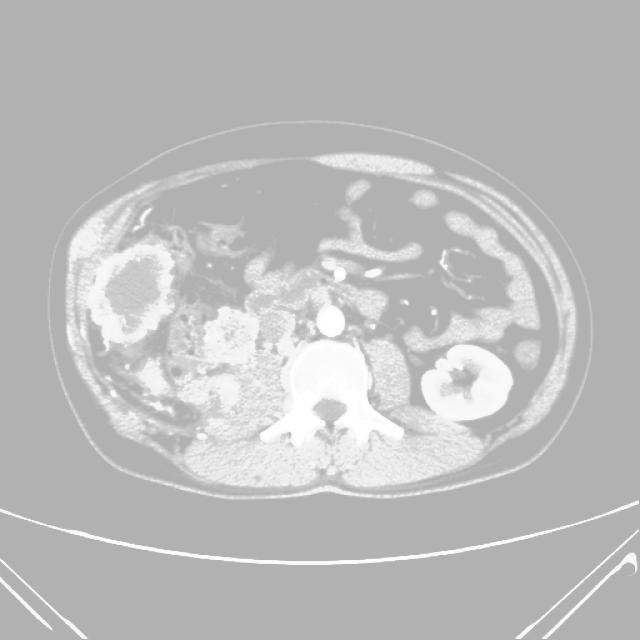NORMAL: (86, 164, 535, 418)
STONE: (86, 164, 535, 418)
TUMOR: (68, 149, 551, 448), (89, 139, 141, 228)
cysts: (86, 164, 535, 418)
